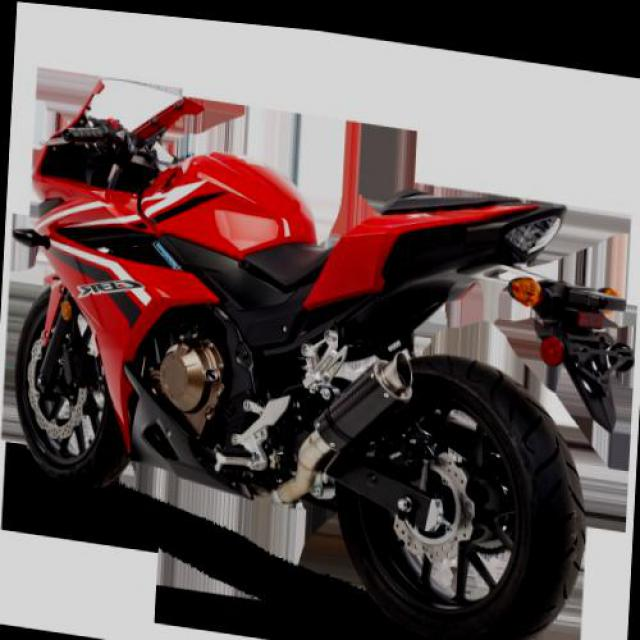CBR500R: (3, 60, 608, 639)
